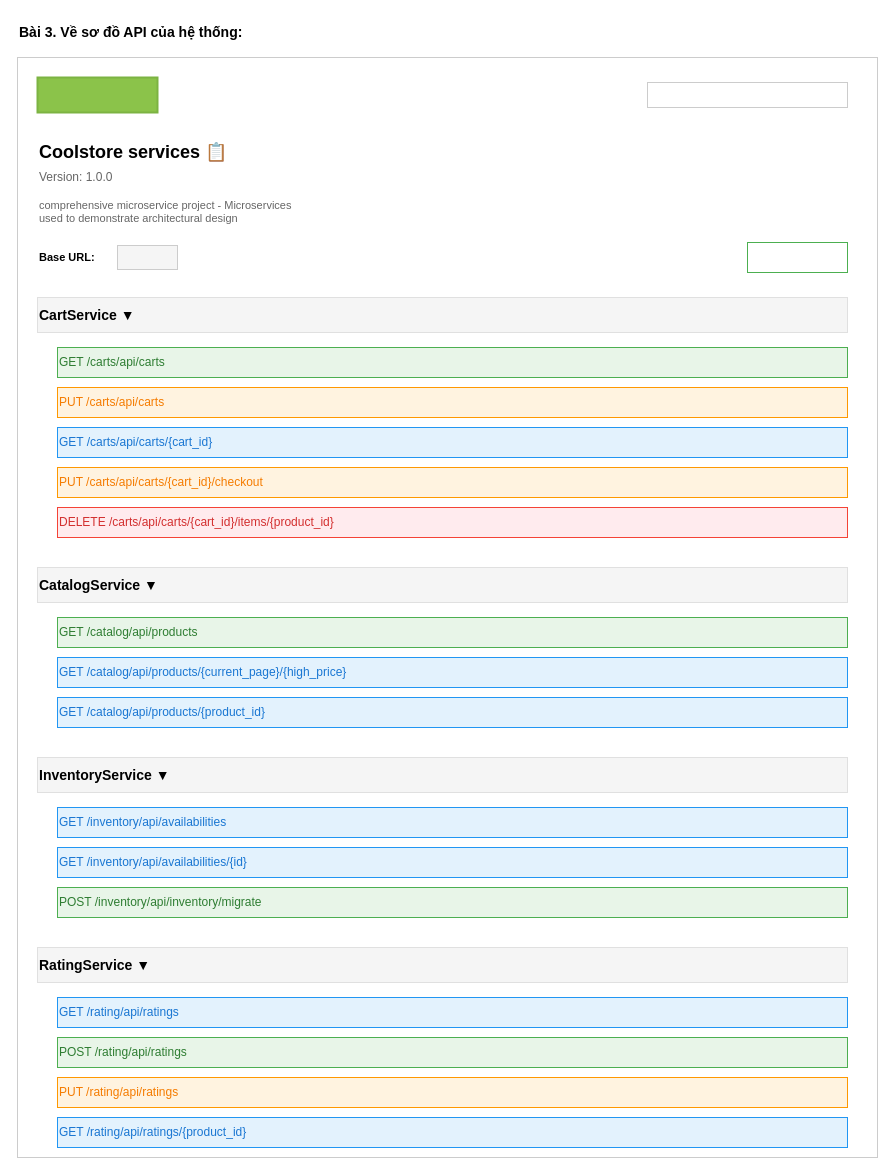
The diagram is 895 pixels wide and 1175 high, and some of its shapes have lost their labels. Here are the shapes that lost their labels. From the top down, the centre of each, then its label:
At point 97,94: "swagger".
At point 747,95: "Select a spec v1.0.0 ▼".
At point 147,257: "HTTP".
At point 797,257: "Authorize 🔓".
